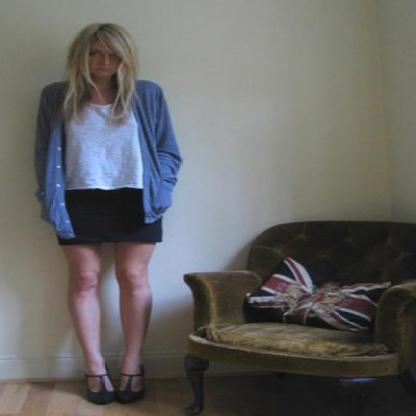jacket: (25, 81, 181, 237)
shirt: (48, 103, 146, 195)
shoe: (87, 367, 153, 405)
skirt: (56, 188, 161, 245)
